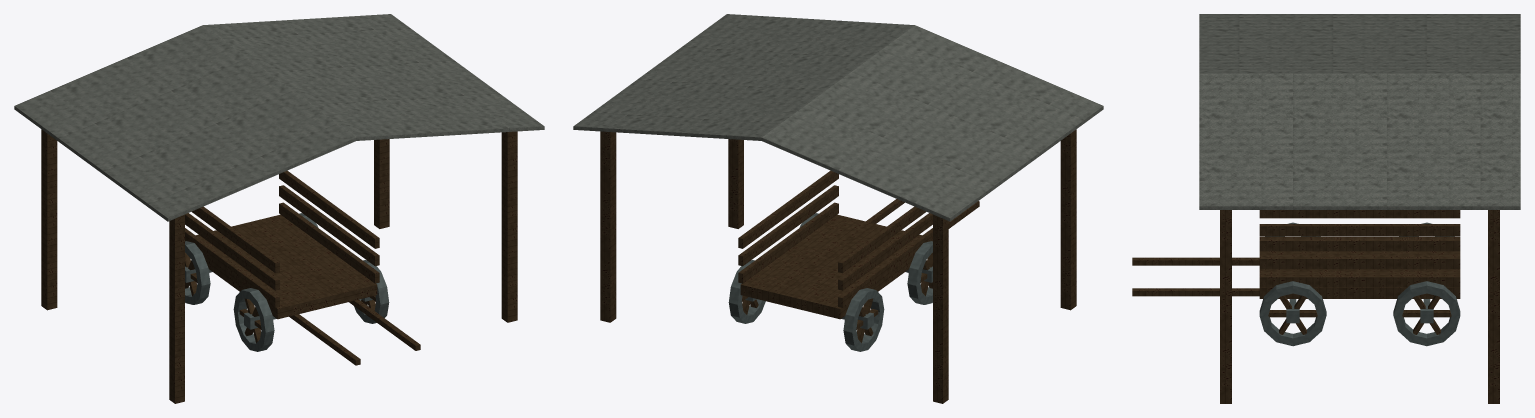
File: RURAL_abrigo_carroca.gltf
3 renders of one model, left to right at view 1: azimuth 30°, elevation 25°; view 2: azimuth 150°, elevation 25°; view 3: azimuth 270°, elevation 25°, orthographic. The views are drawn at different scales.
Visible parts, largest first — view 1: abrigo_carroca_TELHADO, abrigo_carroca_POSTE, abrigo_carroca_CARROCA_LADO, abrigo_carroca_CARROCA_PISO, abrigo_carroca_ARO_RODA, abrigo_carroca_LANCAS, abrigo_carroca_RAIO_RODA; view 2: abrigo_carroca_TELHADO, abrigo_carroca_POSTE, abrigo_carroca_CARROCA_LADO, abrigo_carroca_CARROCA_PISO, abrigo_carroca_ARO_RODA, abrigo_carroca_RAIO_RODA, abrigo_carroca_LANCAS; view 3: abrigo_carroca_TELHADO, abrigo_carroca_CARROCA_LADO, abrigo_carroca_POSTE, abrigo_carroca_CARROCA_PISO, abrigo_carroca_ARO_RODA, abrigo_carroca_LANCAS, abrigo_carroca_RAIO_RODA, abrigo_carroca_CUBO_RODA.
Boxes of the visible parts, x1,y1,x2,y2 form: abrigo_carroca_TELHADO: (14, 14, 544, 221); abrigo_carroca_POSTE: (41, 129, 517, 403); abrigo_carroca_CARROCA_LADO: (185, 170, 379, 307); abrigo_carroca_CARROCA_PISO: (196, 214, 377, 319); abrigo_carroca_ARO_RODA: (185, 213, 389, 351); abrigo_carroca_LANCAS: (289, 299, 420, 365); abrigo_carroca_RAIO_RODA: (185, 252, 376, 342); abrigo_carroca_TELHADO: (573, 14, 1103, 221); abrigo_carroca_POSTE: (600, 129, 1076, 403); abrigo_carroca_CARROCA_LADO: (738, 170, 932, 307); abrigo_carroca_CARROCA_PISO: (740, 214, 921, 319); abrigo_carroca_ARO_RODA: (728, 213, 932, 351); abrigo_carroca_RAIO_RODA: (741, 252, 932, 342); abrigo_carroca_LANCAS: (866, 199, 979, 228); abrigo_carroca_TELHADO: (1199, 14, 1520, 209); abrigo_carroca_CARROCA_LADO: (1259, 210, 1460, 287); abrigo_carroca_POSTE: (1220, 210, 1499, 403); abrigo_carroca_CARROCA_PISO: (1259, 237, 1460, 298); abrigo_carroca_ARO_RODA: (1259, 222, 1460, 346); abrigo_carroca_LANCAS: (1132, 257, 1259, 296); abrigo_carroca_RAIO_RODA: (1268, 295, 1451, 334); abrigo_carroca_CUBO_RODA: (1286, 304, 1433, 323).
Size of the model in its own units: 6.8 by 4 by 5.8.
3 materials, 3 textured.
